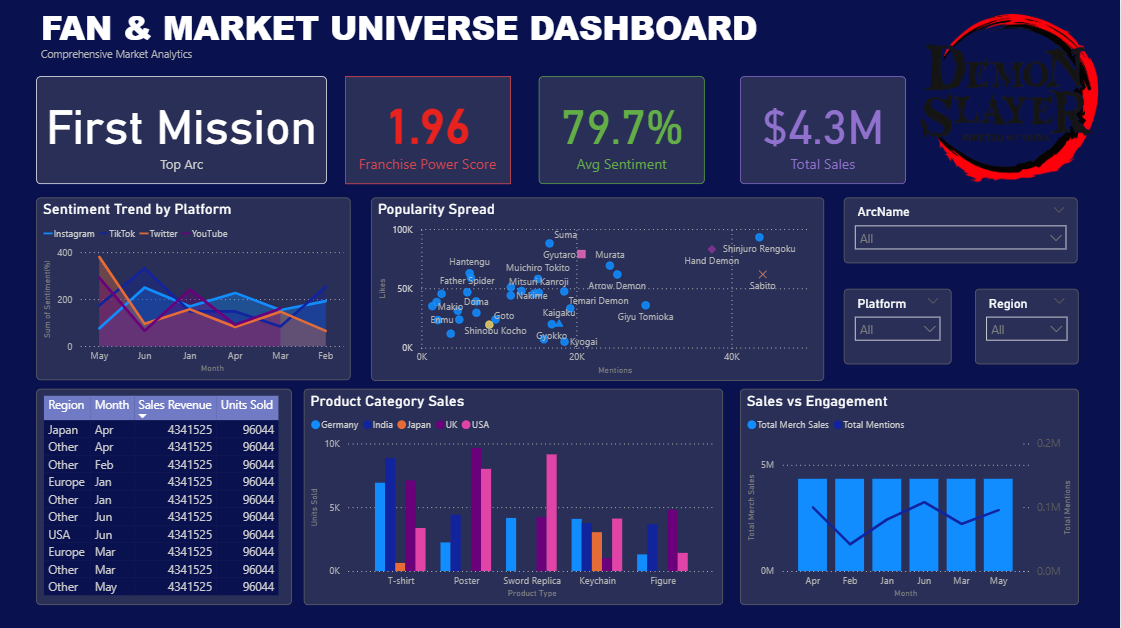

The dashboard page shown, as its layout file describes it:
{"tool":"powerbi","page":{"name":"Dashboard 3","canvas":[1280,720],"ordinal":2},"visuals":[{"type":"card","fields":{"Values":["Battles.Total Sales"]},"box":[845.3,86.4,189.4,123.5],"z":0,"group":"g1"},{"type":"lineClusteredColumnComboChart","title":"Sales vs Engagement","fields":{"Category":["Engagement.Month"],"Y":["Arc_Hashira_Map.Total Merch Sales"],"Y2":["Battles.Total Mentions"]},"box":[845.3,444.6,387,247],"z":0},{"type":"card","fields":{"Values":["Battles.Avg Sentiment"]},"box":[616.2,86.4,189.4,123.5],"z":1000,"group":"g1"},{"type":"slicer","fields":{"Values":["Battles.ArcName"]},"box":[964.7,226.4,267.6,75.5],"z":1000},{"type":"card","fields":{"Values":["Arc_Hashira_Map.Top Arc"]},"box":[41.2,86.4,332.1,123.5],"z":2000,"group":"g1"},{"type":"slicer","title":"engagement vs popularity","fields":{"Values":["Engagement.Region"]},"box":[1114.2,330.7,118,86.4],"z":2000},{"type":"card","fields":{"Values":["Arc_Hashira_Map.Franchise Power Score"]},"box":[393.9,86.4,189.4,123.5],"z":3000,"group":"g1"},{"type":"clusteredColumnChart","title":"Product Category Sales","fields":{"Category":["Merchandise.Product_Type"],"Y":["Sum(Merchandise.Units_Sold)"],"Series":["Merchandise.Region"]},"box":[347.2,444.6,478.9,247],"z":3000},{"type":"tableEx","fields":{"Values":["Engagement.Region","Engagement.Month","Sum(Merchandise.Sales_Revenue)","Sum(Merchandise.Units_Sold)"]},"box":[41.2,444.6,292.3,247],"z":4000},{"type":"slicer","fields":{"Values":["Engagement.Platform"]},"box":[964.7,330.7,123.5,86.4],"z":5000},{"type":"lineChart","title":"Sentiment Trend by Platform","fields":{"Category":["Engagement.Month"],"Y":["Sum(Engagement.Sentiment(%))"],"Series":["Engagement.Platform"]},"box":[41.2,226.4,359.5,208.6],"z":6000},{"type":"scatterChart","title":"Popularity Spread","fields":{"Category":["Characters.CharacterName"],"X":["Sum(Engagement.Mentions)"],"Y":["Sum(Engagement.Likes)"]},"box":[424,225,517.3,209.9],"z":7000},{"type":"group","id":"g1","title":"Group 1","box":[41.2,86.4,993.5,123.5],"z":8000},{"type":"textbox","box":[41.2,0,1001.7,67.2],"z":9000},{"type":"textbox","box":[41,47.1,267.8,39.8],"z":9001}]}

Visuals, with their boxes in screenshot pixels (x1, y1, x2, y2), scaled from the page's 1280x720 canvas onto the 1121x628 screenshot:
card - Battles.Total Sales: [x1=740, y1=75, x2=906, y2=183]
"Sales vs Engagement" lineClusteredColumnComboChart: [x1=740, y1=388, x2=1079, y2=603]
card - Battles.Avg Sentiment: [x1=540, y1=75, x2=706, y2=183]
slicer - Battles.ArcName: [x1=845, y1=197, x2=1079, y2=263]
card - Arc_Hashira_Map.Top Arc: [x1=36, y1=75, x2=327, y2=183]
"engagement vs popularity" slicer: [x1=976, y1=288, x2=1079, y2=364]
card - Arc_Hashira_Map.Franchise Power Score: [x1=345, y1=75, x2=511, y2=183]
"Product Category Sales" clusteredColumnChart: [x1=304, y1=388, x2=723, y2=603]
tableEx - Engagement.Region x Engagement.Month: [x1=36, y1=388, x2=292, y2=603]
slicer - Engagement.Platform: [x1=845, y1=288, x2=953, y2=364]
"Sentiment Trend by Platform" lineChart: [x1=36, y1=197, x2=351, y2=379]
"Popularity Spread" scatterChart: [x1=371, y1=196, x2=824, y2=379]
"Group 1" group: [x1=36, y1=75, x2=906, y2=183]
textbox: [x1=36, y1=0, x2=913, y2=59]
textbox: [x1=36, y1=41, x2=270, y2=76]
